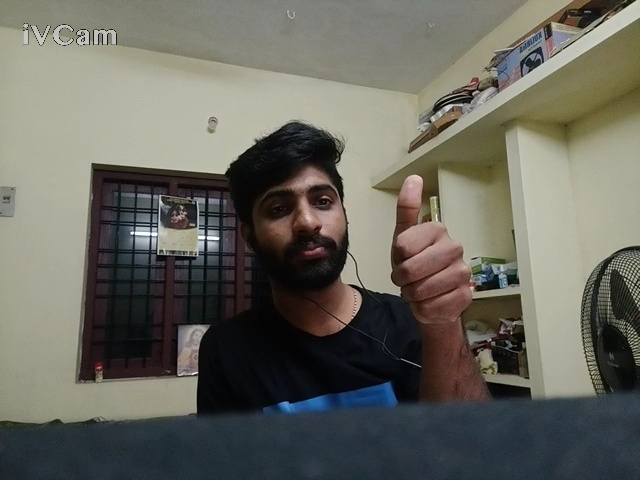Yes: (342, 149, 563, 370)
